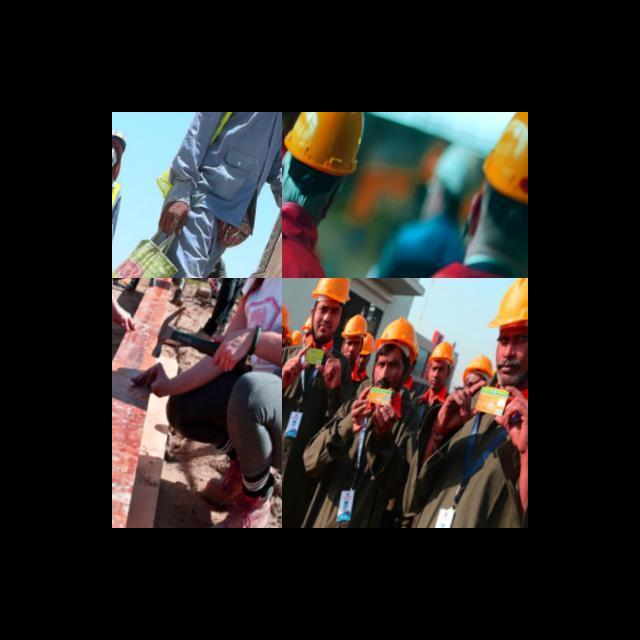Hardhat: (285, 112, 360, 173), (487, 120, 528, 204), (488, 278, 528, 327), (439, 146, 478, 193), (376, 316, 419, 353), (312, 276, 354, 302), (460, 356, 494, 379), (423, 146, 445, 180), (338, 315, 367, 337), (427, 342, 456, 363), (359, 336, 376, 356), (281, 304, 290, 330), (288, 330, 304, 344), (112, 130, 127, 143), (304, 317, 311, 333)
Mask: (112, 148, 121, 167)
NO-Mask: (497, 358, 528, 383), (314, 320, 338, 340), (375, 376, 401, 392), (429, 376, 446, 389), (344, 351, 357, 362), (356, 363, 366, 372)
NO-Safety Vest: (436, 390, 526, 528), (319, 401, 404, 528), (191, 112, 270, 216), (283, 343, 336, 469), (238, 286, 282, 369), (392, 221, 466, 266), (382, 201, 423, 245), (412, 393, 446, 444), (351, 371, 367, 395)
Person: (133, 279, 284, 528), (400, 278, 528, 527), (305, 315, 415, 528), (150, 112, 281, 274), (434, 112, 528, 276), (285, 277, 341, 528), (281, 112, 364, 273), (379, 148, 477, 278), (384, 144, 448, 230), (403, 342, 455, 440), (113, 130, 127, 244), (348, 337, 374, 395), (456, 352, 494, 389), (342, 314, 365, 370), (112, 290, 138, 331), (404, 343, 420, 392), (172, 274, 190, 302), (284, 304, 294, 352), (292, 327, 303, 349)
Safety Vest: (112, 183, 122, 214)
